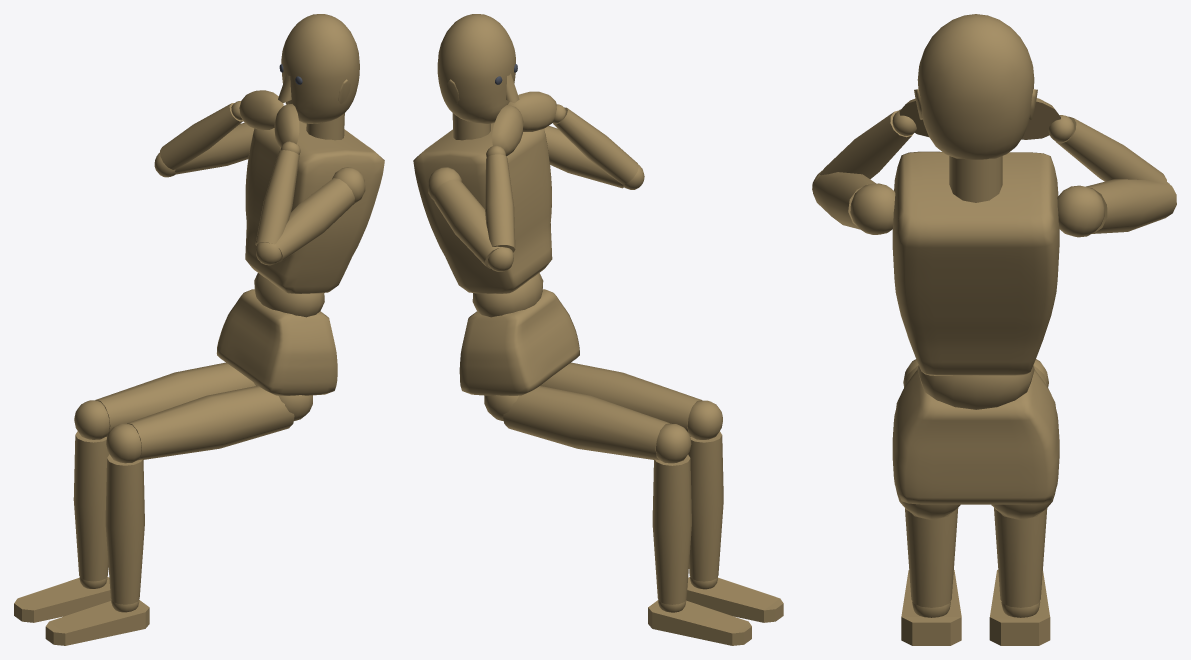
File: speak_no_evil.fbx
3 views of the same model, side by side, from view 1: azimuth 30°, elevation 25°; view 2: azimuth 150°, elevation 25°; view 3: azimuth 270°, elevation 25° (orthographic). The views are drawn at different scales.
Visible parts, largest first — view 1: speak_no_evil_puppet; view 2: speak_no_evil_puppet; view 3: speak_no_evil_puppet.
Boxes of the visible parts, bbox=[...] form: speak_no_evil_puppet: bbox=[14, 14, 384, 645]; speak_no_evil_puppet: bbox=[413, 14, 783, 645]; speak_no_evil_puppet: bbox=[812, 14, 1176, 645].
Size of the model in its own units: 5.51 by 8.73 by 3.79.
